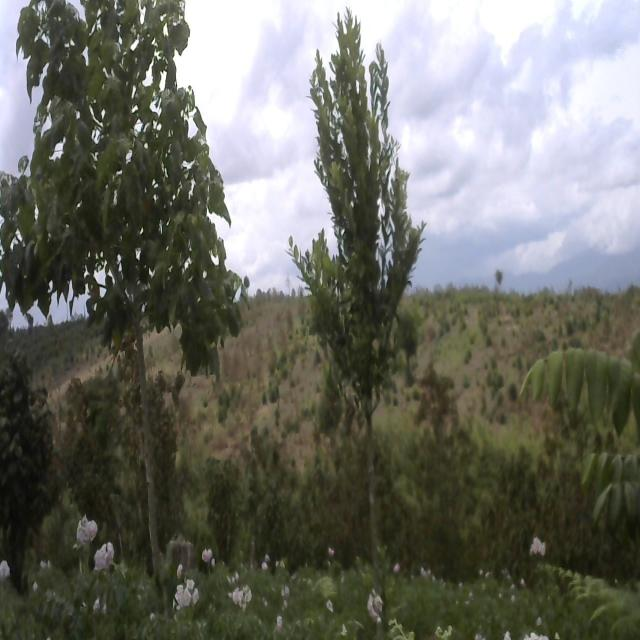Dombeya torrida: (7, 2, 264, 534)
Syzygium guinesis: (273, 5, 456, 571)
